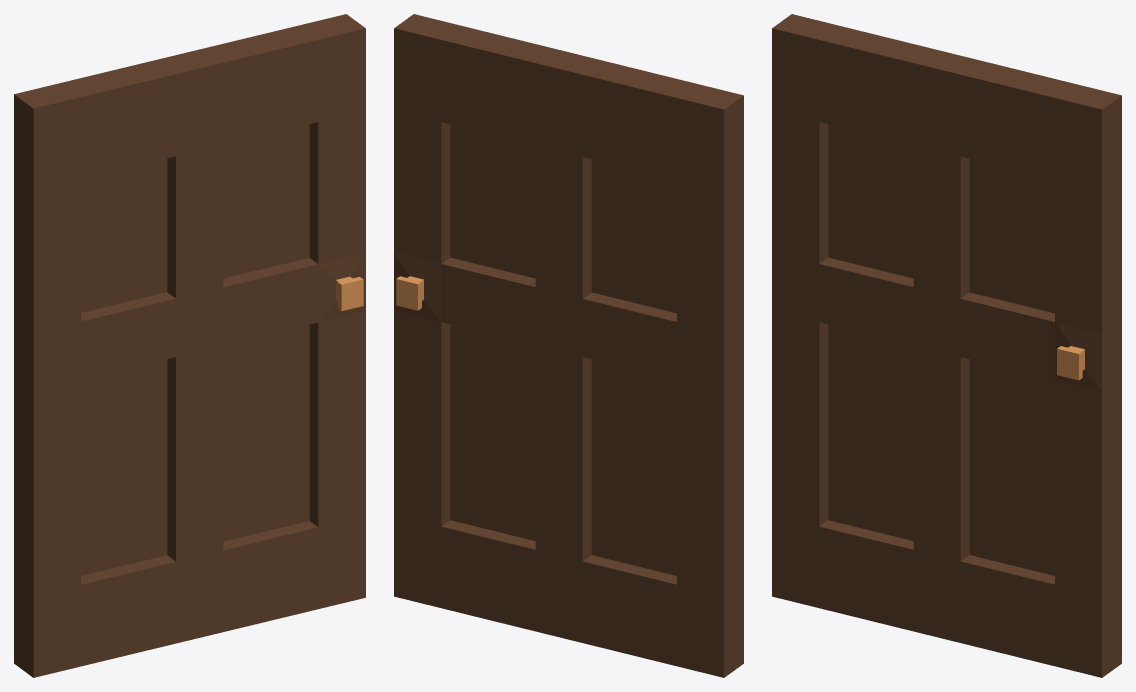
The model's file is door 1.fbx.
3 views of the same model, side by side, from view 1: azimuth 30°, elevation 25°; view 2: azimuth 150°, elevation 25°; view 3: azimuth 330°, elevation 25° (orthographic).
Visible parts, largest first — view 1: Cube.010; view 2: Cube.010; view 3: Cube.010.
Part boxes in pixels (left/top/right/bottom): Cube.010: left=14, top=14, right=365, bottom=677; Cube.010: left=394, top=14, right=743, bottom=677; Cube.010: left=772, top=14, right=1121, bottom=677.
Bounding box in the file's own units: 188 × 308 × 39.83.
